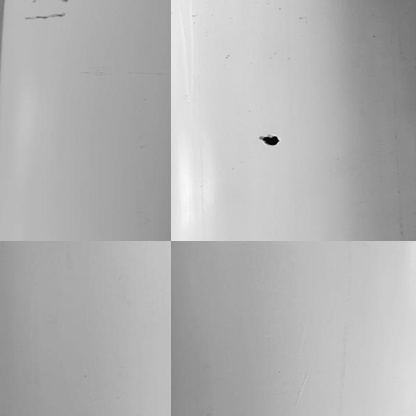kongdong: (256, 133, 282, 150)
